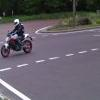Motorcycle: (4, 27, 41, 64)
